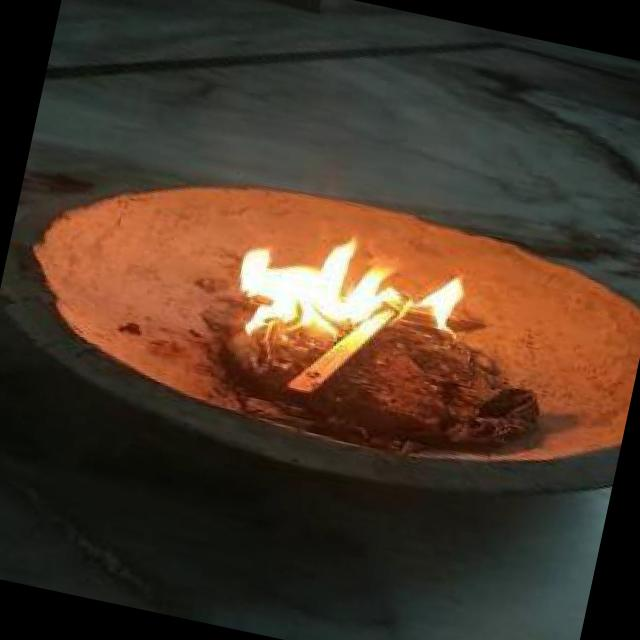Fire: (219, 211, 482, 380)
